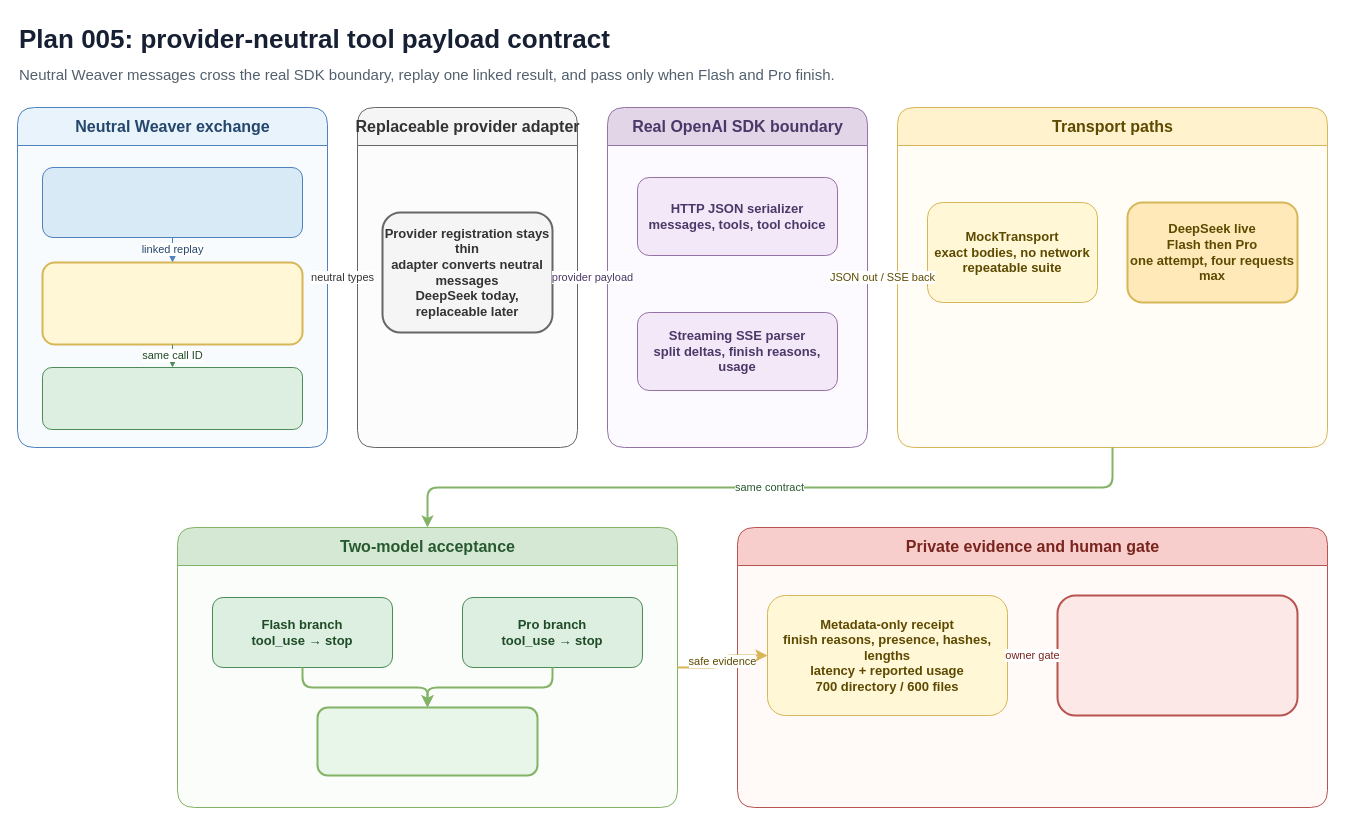
Some shapes in this 1345 by 825 pixel diagram are drawn without their labels. The shapes that lost their labels are listed below. From the top down, each one's centre as x and y in pixels, then its label:
At (x=172, y=202): "Request 1 neutral messages + tool schema thinking disabled".
At (x=172, y=303): "Assistant tool call + fixed result same call ID raw arguments preserved".
At (x=172, y=398): "Request 2 → final response tool available, forced choice removed".
At (x=1177, y=655): "Human decision tests + diagram + two reviews accept or reject".
At (x=427, y=741): "Both pass candidate may move to review".
